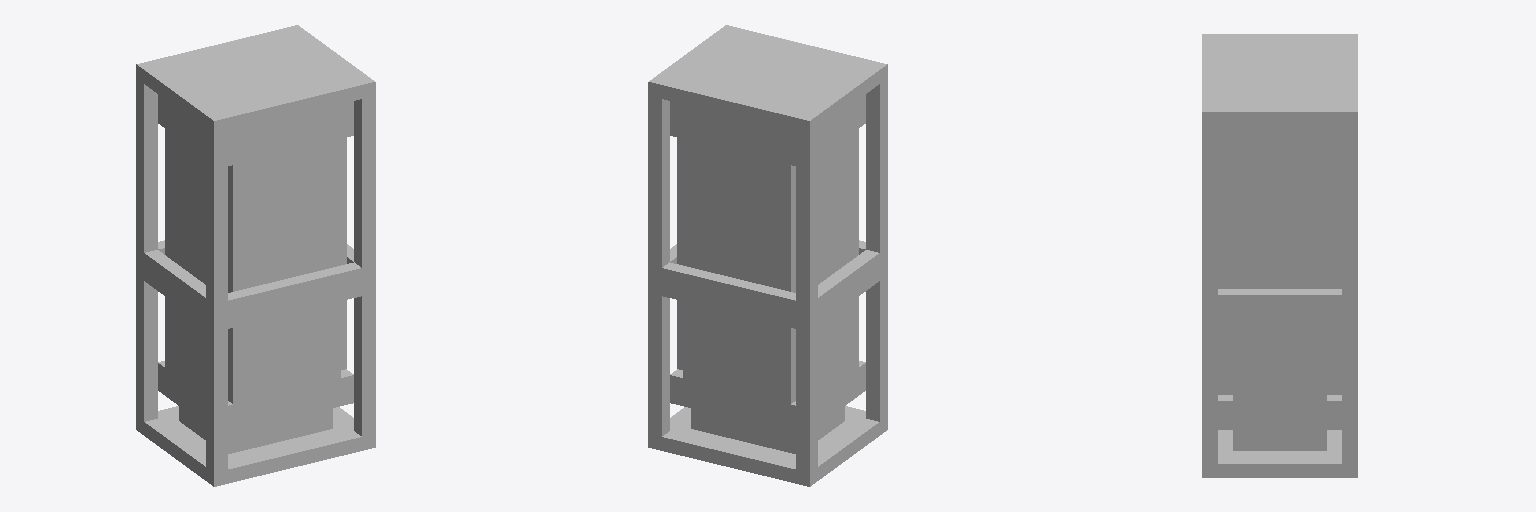
File: experiment cabinet (Red).obj
3 views of the same model, side by side, from view 1: azimuth 30°, elevation 25°; view 2: azimuth 150°, elevation 25°; view 3: azimuth 270°, elevation 25° (orthographic).
Parts seen in each view (by area): view 1: object 1; view 2: object 1; view 3: object 1.
Part boxes in pixels (left/top/right/bottom): object 1: left=136, top=25, right=375, bottom=486; object 1: left=648, top=25, right=887, bottom=486; object 1: left=1202, top=34, right=1357, bottom=477.
Bounding box in the file's own units: 1.2 × 2.6 × 1.